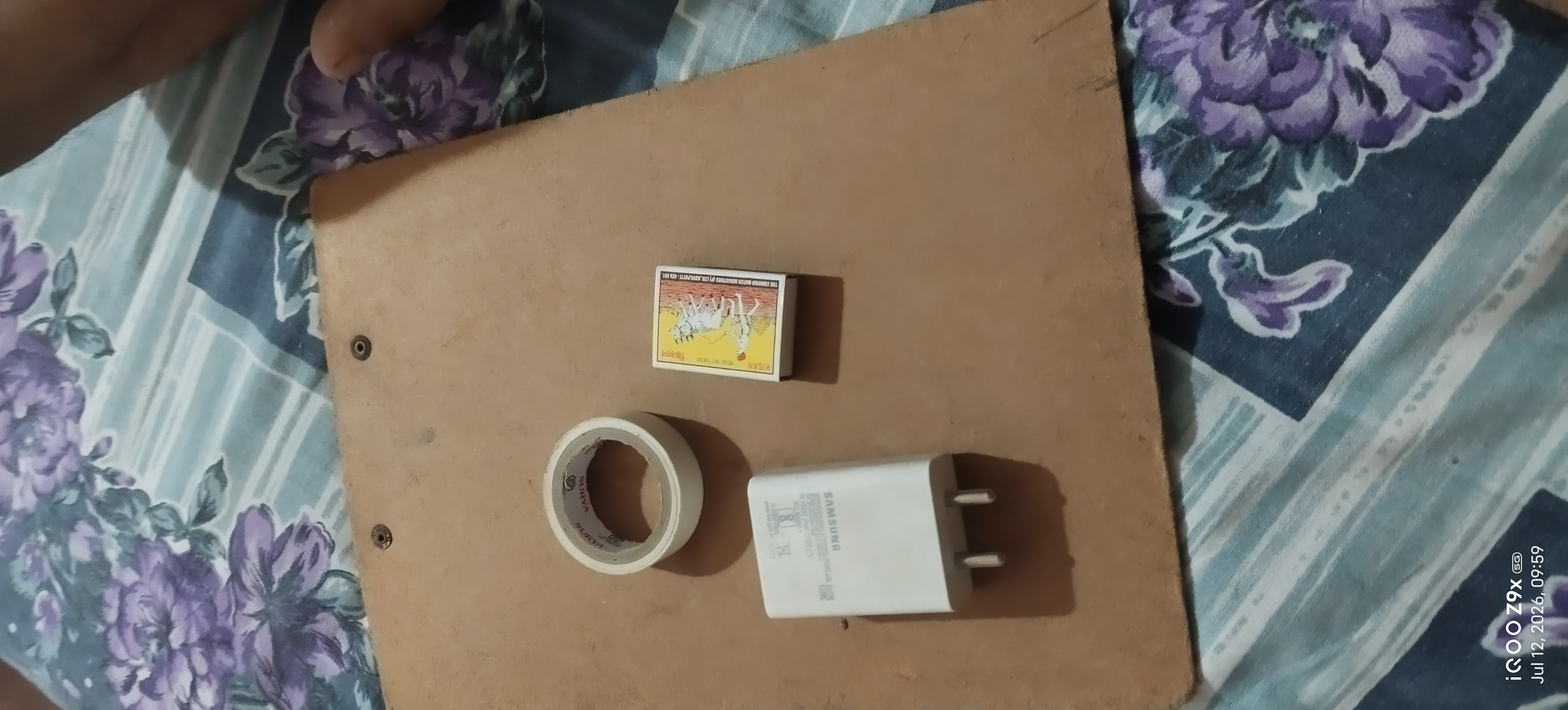charger: (730, 438, 1037, 649)
matchbox: (637, 251, 812, 398)
tape_roll: (519, 407, 718, 592)
